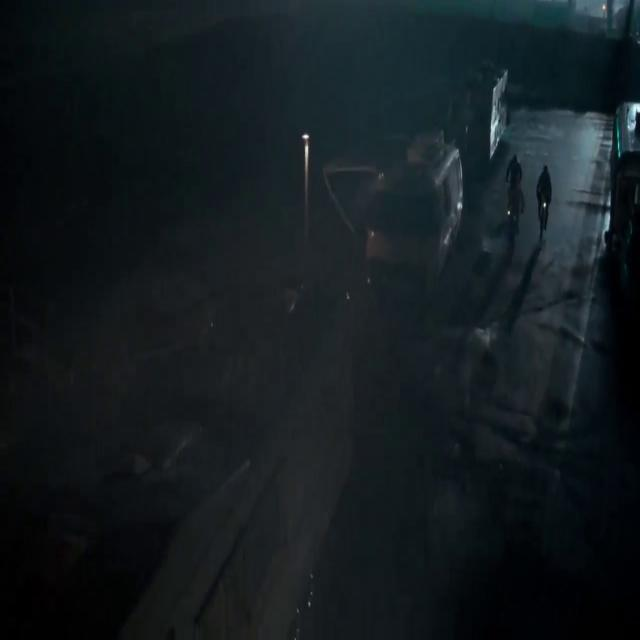car: (15, 349, 346, 640), (321, 118, 471, 318), (576, 90, 640, 302), (453, 44, 523, 147)
